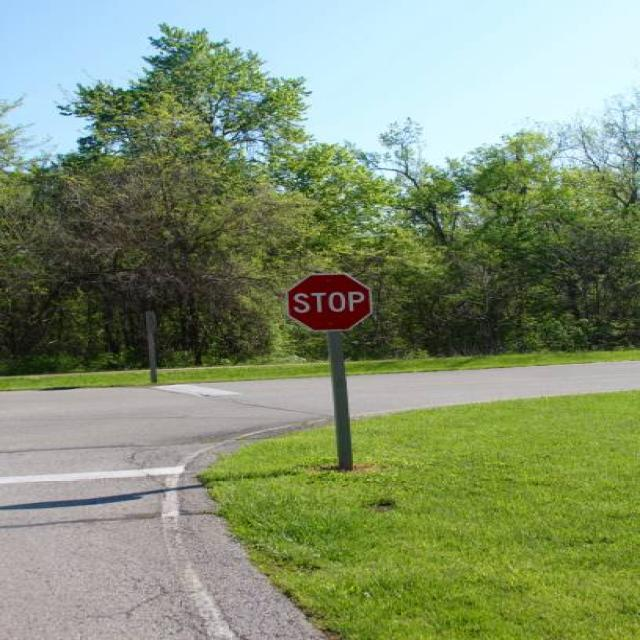STOP: (285, 274, 370, 330)
